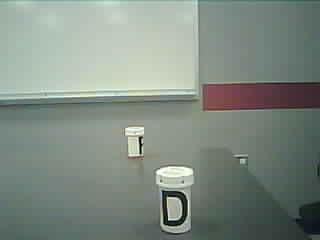Bottle D: (153, 164, 202, 237)
Bottle F: (120, 124, 152, 163)
